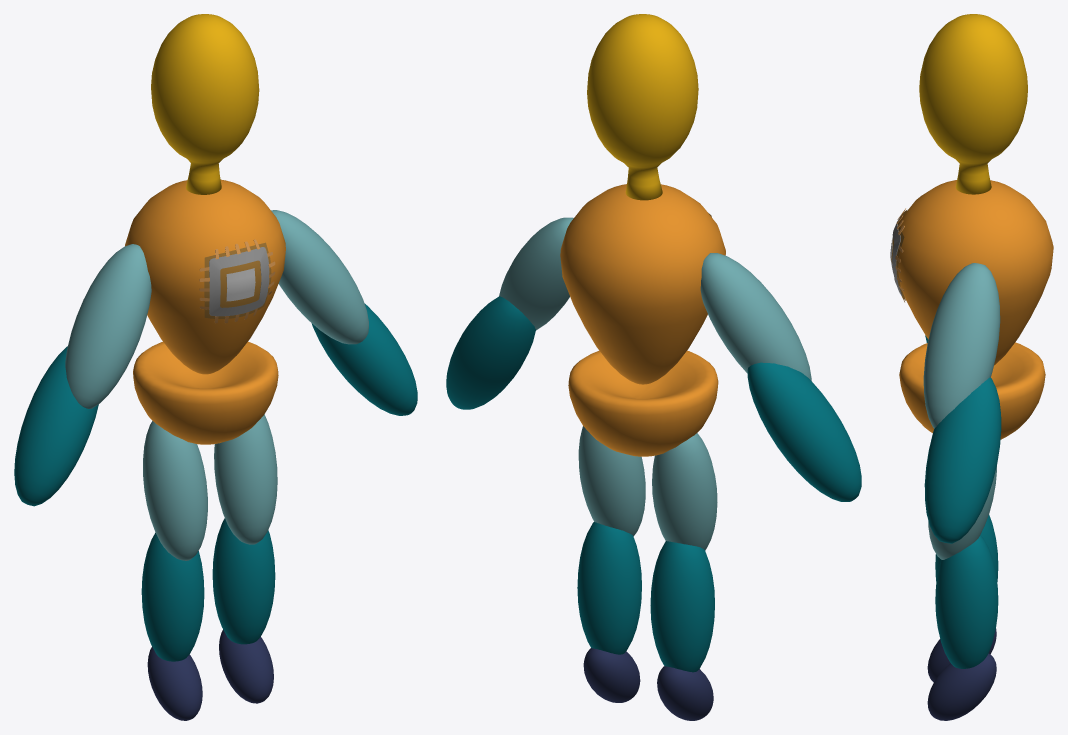
The model's file is Girl - Bot .fbx.
The picture shows the model from 3 angles, left to right: view 1: azimuth 30°, elevation 25°; view 2: azimuth 150°, elevation 25°; view 3: azimuth 270°, elevation 25°; orthographic projection. The views are drawn at different scales.
Visible parts, largest first — view 1: Trunk, head, Waist, Upper arm . R, Lower arm .R, Upper arm .L, Upper leg .R, Upper leg .L, Lower leg .R, Lower leg .L, Lower arm .L, PLatform (+2 smaller); view 2: Trunk, head, Waist, Lower arm .R, Upper arm . R, Lower leg .R, Lower leg .L, Lower arm .L, Upper leg .R, Upper leg .L, Upper arm .L, Feet .R (+1 smaller); view 3: Trunk, head, Lower arm .L, Upper arm .L, Lower leg .L, Waist, Feet .L, Upper leg .L, PLatform, Feet .R, Lower leg .R.
Part boxes in pixels (box(x1,y1,x2,y2)): Trunk: box(125, 179, 285, 374); head: box(151, 14, 259, 194); Waist: box(133, 341, 278, 444); Upper arm . R: box(65, 244, 151, 408); Lower arm .R: box(14, 346, 98, 506); Upper arm .L: box(271, 210, 368, 344); Upper leg .R: box(143, 421, 207, 560); Upper leg .L: box(214, 414, 277, 544); Lower leg .R: box(141, 532, 204, 661); Lower leg .L: box(212, 518, 275, 644); Lower arm .L: box(311, 303, 417, 415); PLatform: box(199, 239, 275, 323); Trunk: box(560, 184, 725, 384); head: box(587, 14, 698, 200); Waist: box(568, 350, 718, 456); Lower arm .R: box(747, 362, 861, 501); Upper arm . R: box(700, 253, 811, 380); Lower leg .R: box(650, 541, 714, 672); Lower leg .L: box(577, 521, 641, 654); Lower arm .L: box(446, 296, 535, 409); Upper leg .R: box(652, 433, 717, 550); Upper leg .L: box(578, 426, 645, 536); Upper arm .L: box(499, 217, 573, 330); Feet .R: box(657, 666, 713, 720); Trunk: box(898, 180, 1053, 365); head: box(919, 14, 1027, 194); Lower arm .L: box(924, 377, 1001, 543); Upper arm .L: box(923, 263, 1000, 428); Lower leg .L: box(935, 535, 998, 668); Waist: box(899, 342, 1045, 439); Feet .L: box(927, 653, 996, 720); Upper leg .L: box(928, 466, 996, 559); PLatform: box(890, 208, 907, 302); Feet .R: box(927, 629, 996, 682); Lower leg .R: box(935, 514, 998, 581).
Bounding box in the file's own units: 8.46 × 13.9 × 3.01.
